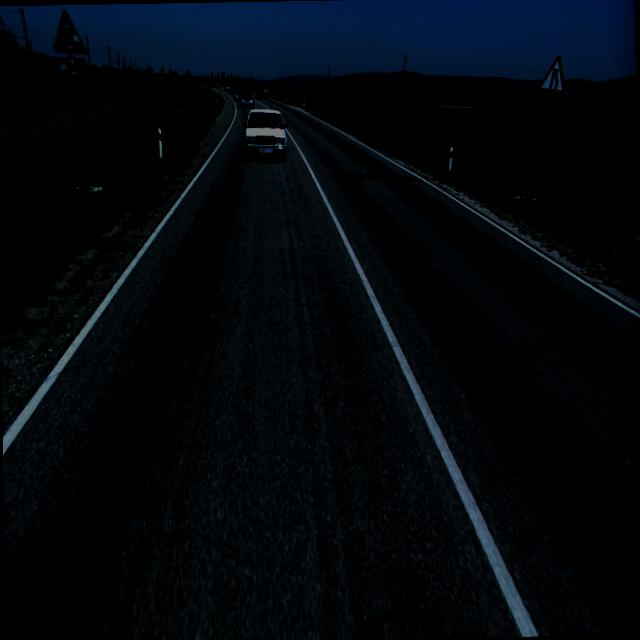road: (2, 92, 640, 640)
